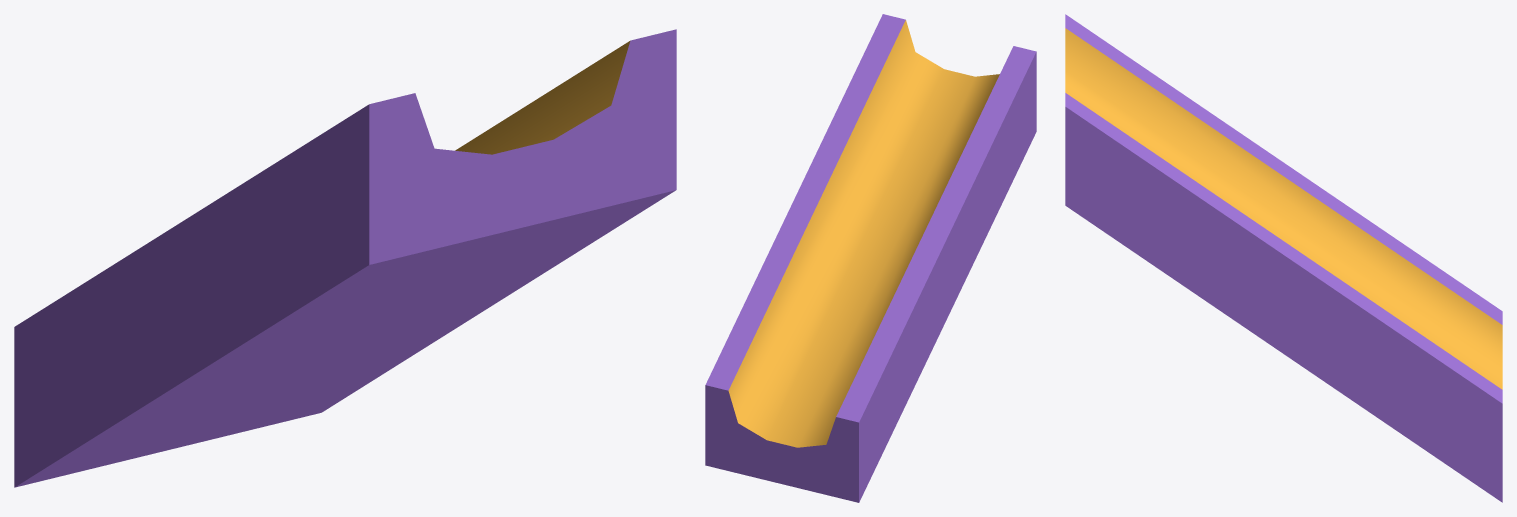
File: slant-long-d.glb
3 renders of one model, left to right at view 1: azimuth 30°, elevation 25°; view 2: azimuth 150°, elevation 25°; view 3: azimuth 270°, elevation 25°, orthographic. The views are drawn at different scales.
Parts seen in each view (by area): view 1: slant-long-d; view 2: slant-long-d; view 3: slant-long-d.
Part boxes in pixels (<box>): slant-long-d: <box>14,29,676,487</box>; slant-long-d: <box>705,14,1036,502</box>; slant-long-d: <box>1065,14,1502,502</box>.
Bounding box in the file's own units: 1 × 2 × 2.
Materials: 1 (1 with a texture image).
